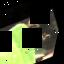Prickly Sida: (0, 4, 63, 64)
